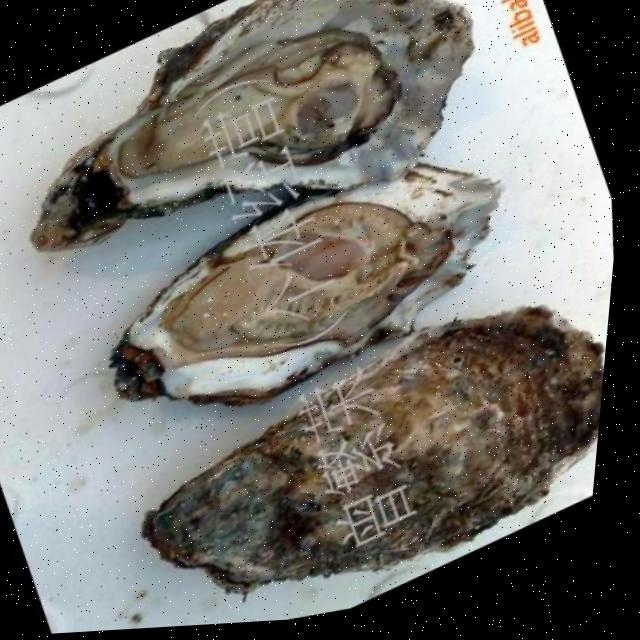Oyster-Indeterminate: (117, 288, 611, 612)
Oyster-Open: (2, 0, 498, 261), (86, 143, 526, 430)
